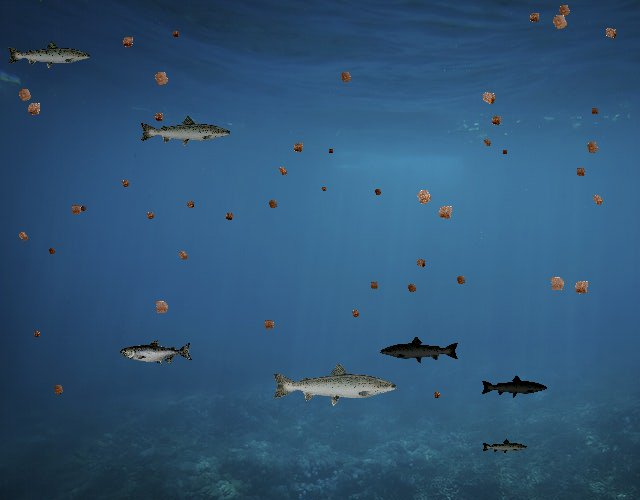Fish: (270, 361, 399, 407), (139, 115, 233, 149), (6, 39, 92, 70), (380, 335, 461, 365), (121, 339, 194, 366), (480, 375, 548, 399), (482, 438, 529, 455)
Pellet: (431, 199, 460, 228), (567, 273, 595, 301), (475, 85, 502, 112), (580, 136, 604, 160), (288, 138, 309, 159), (451, 271, 470, 290), (347, 305, 364, 322), (30, 327, 44, 341)
